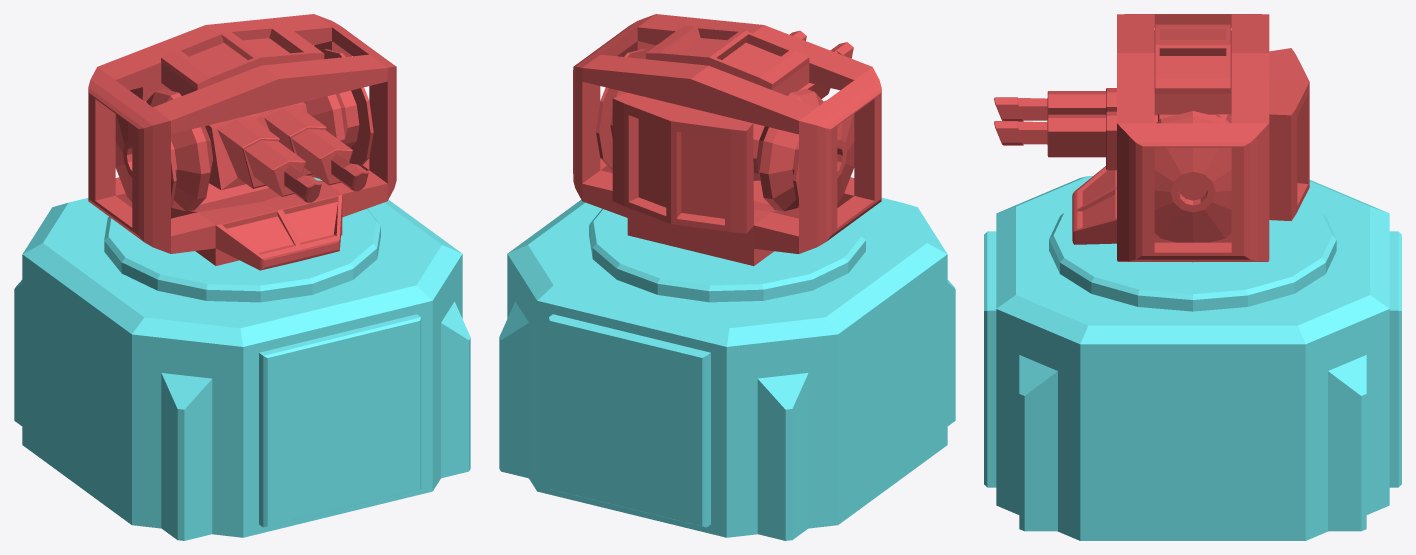
The model's file is Sci-Fi_Turret_2_LOW.fbx.
The picture shows the model from 3 angles, left to right: view 1: azimuth 30°, elevation 25°; view 2: azimuth 150°, elevation 25°; view 3: azimuth 270°, elevation 25°; orthographic projection. The views are drawn at different scales.
Parts seen in each view (by area): view 1: SquareBase.L, Body.L, Barrel.L, Rotaion_PivotPoint.L; view 2: SquareBase.L, Body.L, Rotaion_PivotPoint.L, Barrel.L; view 3: SquareBase.L, Body.L, Barrel.L, Rotaion_PivotPoint.L.
Boxes of the visible parts, x1,y1,x2,y2 form: SquareBase.L: (14,177,470,540); Body.L: (88,14,396,270); Barrel.L: (115,49,373,211); Rotaion_PivotPoint.L: (104,208,380,302); SquareBase.L: (499,198,955,540); Body.L: (573,14,881,265); Rotaion_PivotPoint.L: (589,208,865,302); Barrel.L: (596,30,854,211); SquareBase.L: (984,176,1401,540); Body.L: (1072,14,1309,261); Barrel.L: (994,88,1231,242); Rotaion_PivotPoint.L: (1049,201,1336,311).
Size of the model in its own units: 0.3563 by 0.4125 by 0.3782.
